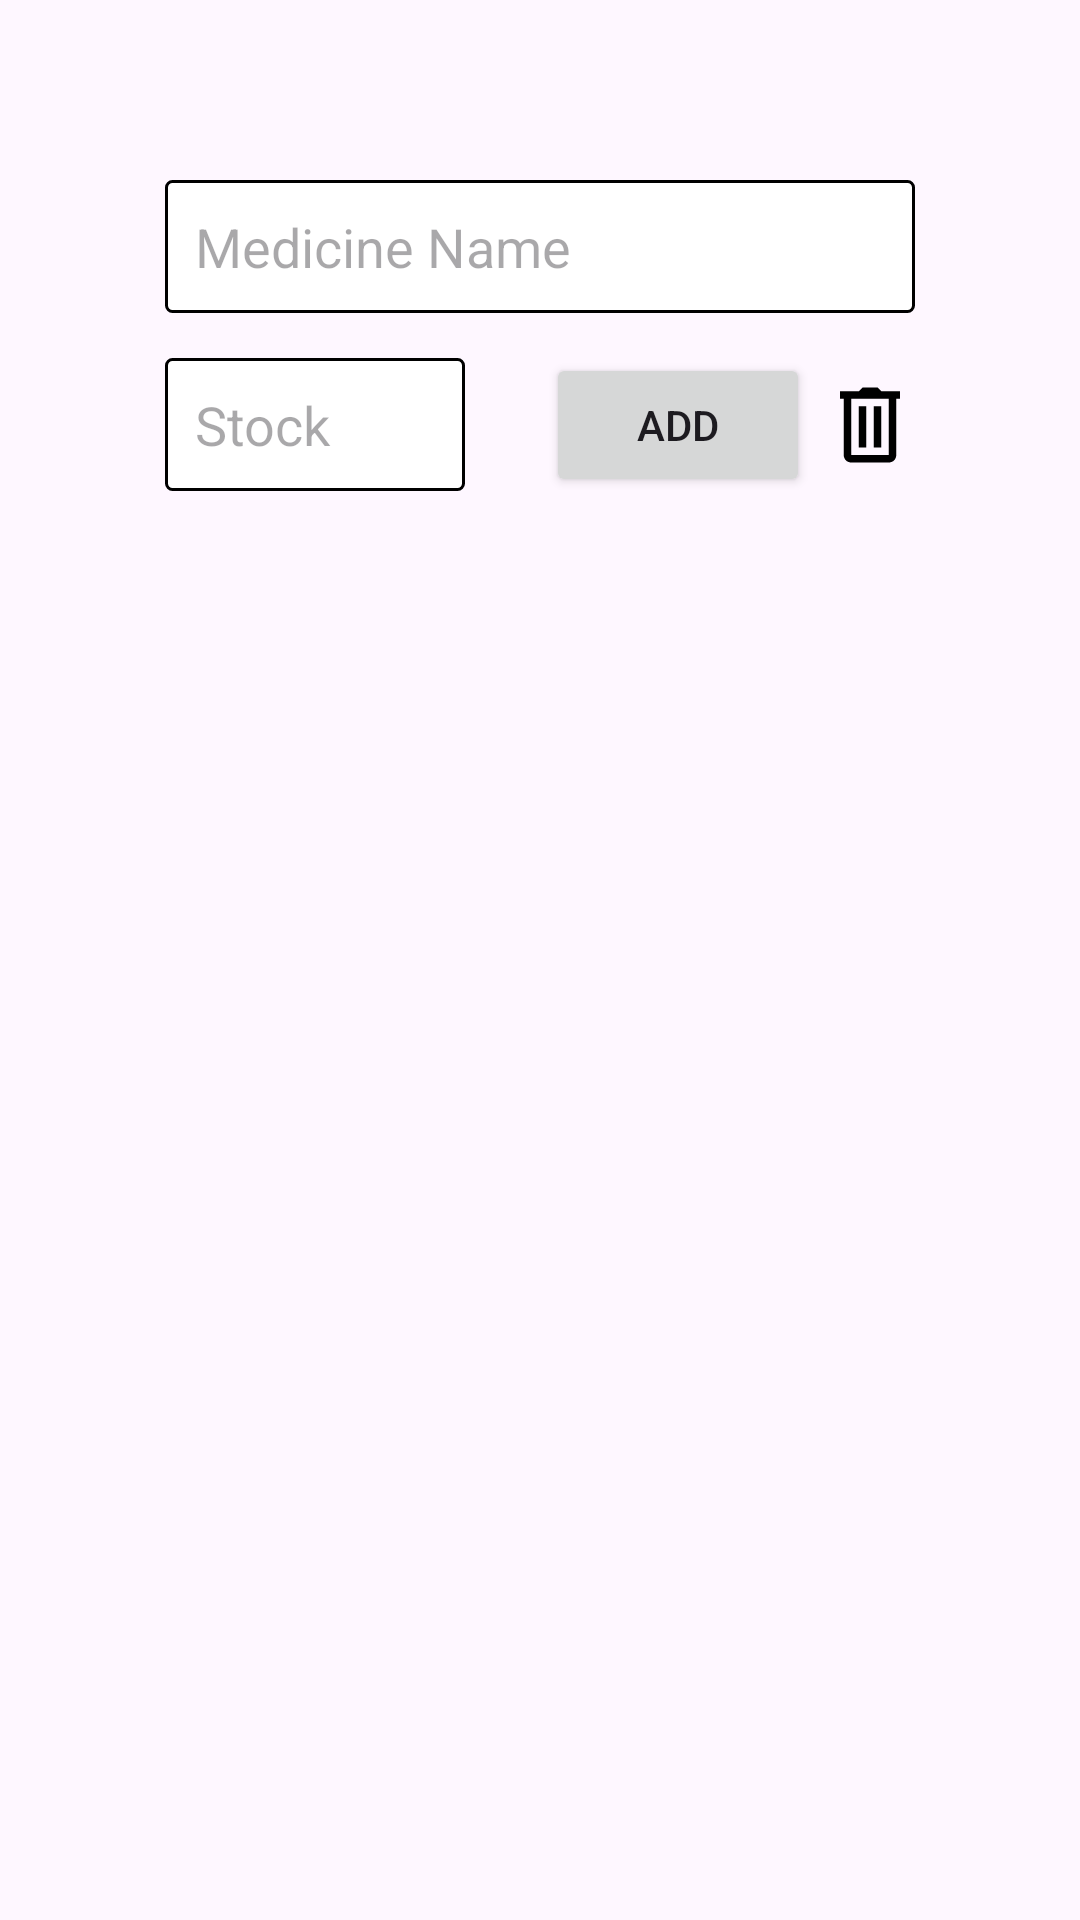

Where to tap for icons on this 1080px x 1920px app screen, as (x,y):
remove: (870,425)
